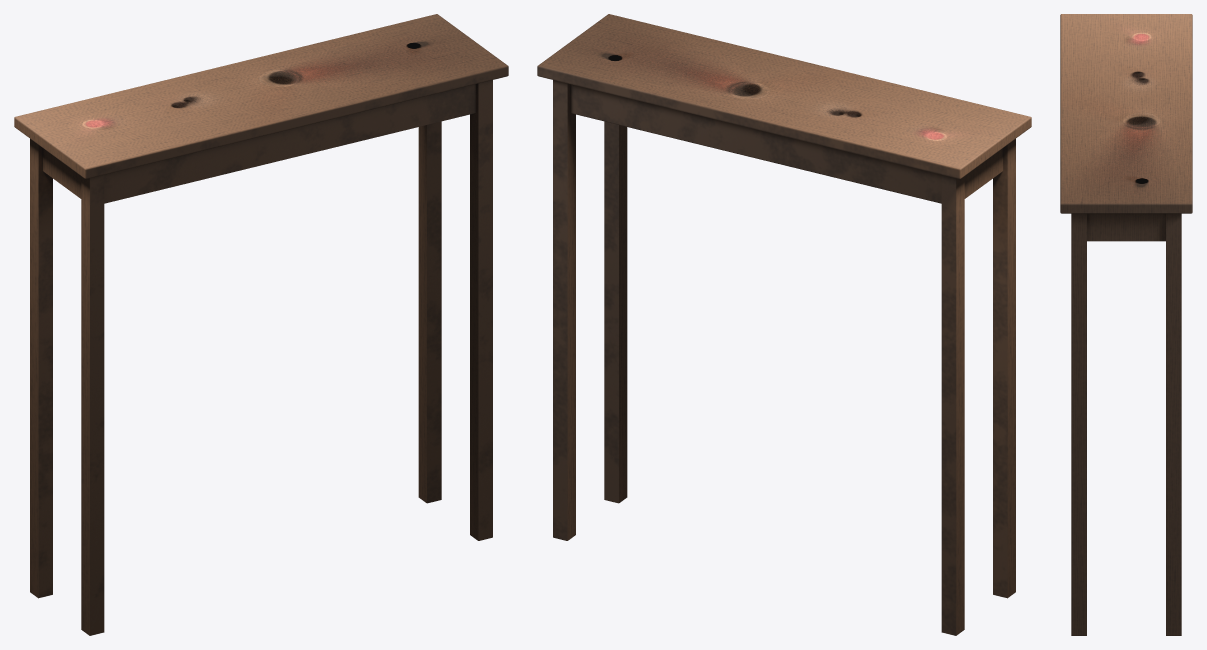
Rendered from 502_hook.glb.
The picture shows the model from 3 angles, left to right: view 1: azimuth 30°, elevation 25°; view 2: azimuth 150°, elevation 25°; view 3: azimuth 270°, elevation 25°; orthographic projection. The views are drawn at different scales.
Visible parts, largest first — view 1: Table; view 2: Table; view 3: Table.
Boxes of the visible parts, box(x1,y1,x2,y2) form: Table: box(14, 14, 508, 635); Table: box(537, 14, 1031, 635); Table: box(1060, 14, 1192, 635).
Size of what is drawn, in the model's own units: 2.9 by 3.1 by 0.85.
1 material, 1 textured.
